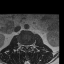CCS_stenosis: (26, 43, 27, 50)
LFS_stenosis: (29, 42, 31, 48)
LLS_normal: (27, 43, 29, 48)
RFS_stenosis: (22, 42, 24, 47)
RLS_stenosis: (24, 43, 26, 48)
